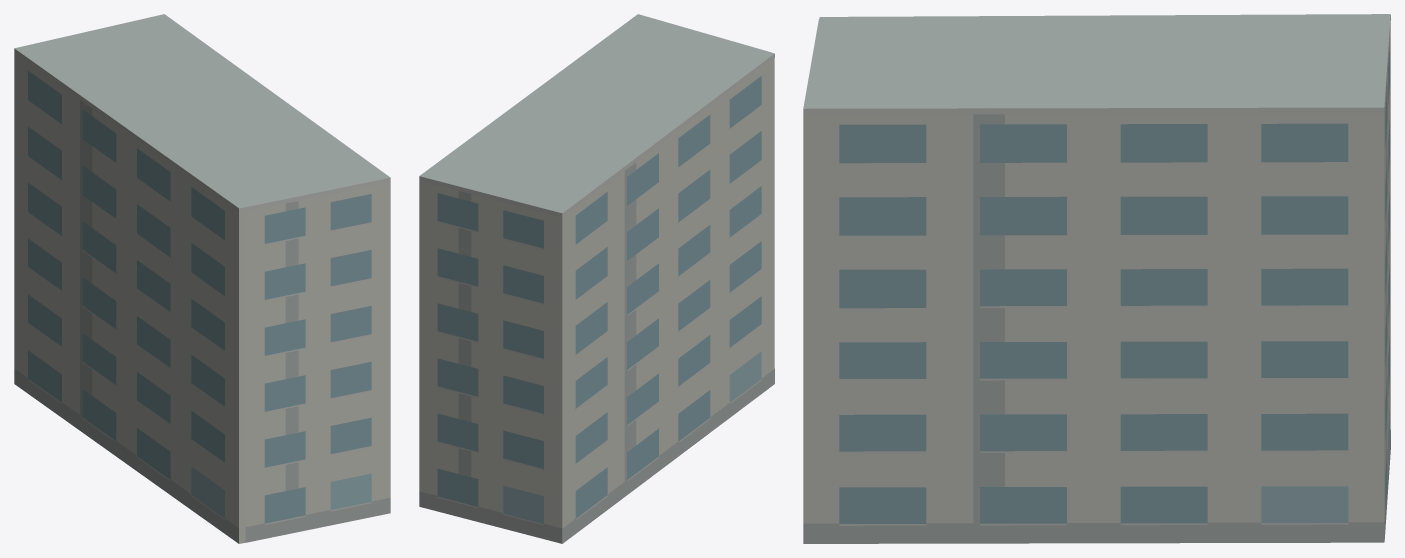
Rendered from survey-upis-32820641.glb.
The picture shows the model from 3 angles, left to right: view 1: azimuth 30°, elevation 25°; view 2: azimuth 150°, elevation 25°; view 3: azimuth 270°, elevation 25°; orthographic projection. The views are drawn at different scales.
Visible parts, largest first — view 1: survey-upis-32820641.tmp; view 2: survey-upis-32820641.tmp; view 3: survey-upis-32820641.tmp.
Part boxes in pixels (left/top/right/bottom): survey-upis-32820641.tmp: left=14, top=14, right=390, bottom=543; survey-upis-32820641.tmp: left=419, top=14, right=774, bottom=543; survey-upis-32820641.tmp: left=803, top=14, right=1390, bottom=543.
Size of the model in its own units: 8.47 by 18.1 by 22.16.
